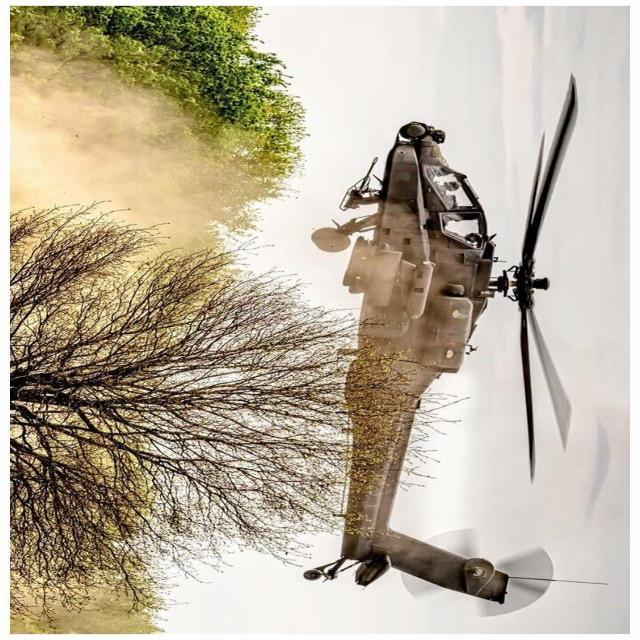MIL_HELO: (263, 70, 640, 610)
